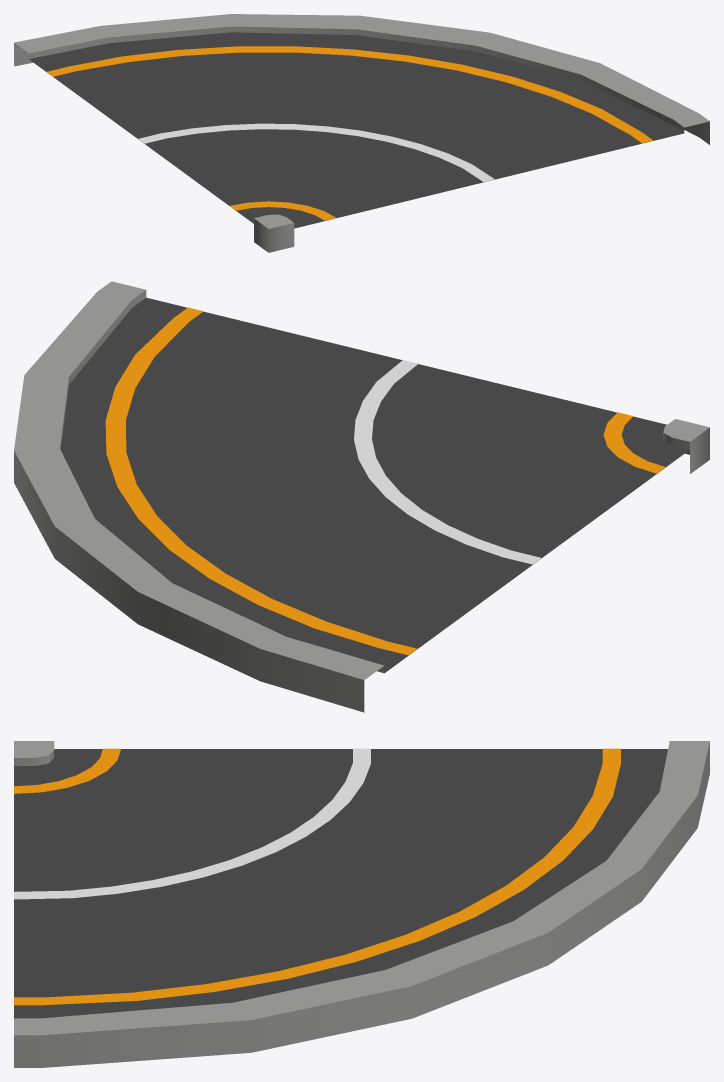
File: Road_A_8.fbx
The picture shows the model from 3 angles, top to bottom: view 1: azimuth 30°, elevation 25°; view 2: azimuth 150°, elevation 25°; view 3: azimuth 270°, elevation 25°; orthographic projection. The views are drawn at different scales.
Parts seen in each view (by area): view 1: Road_A_8; view 2: Road_A_8; view 3: Road_A_8.
Boxes of the visible parts, bbox=[...] form: Road_A_8: bbox=[14, 14, 709, 252]; Road_A_8: bbox=[14, 281, 709, 712]; Road_A_8: bbox=[14, 741, 709, 1067].
Bounding box in the file's own units: 800 × 41.48 × 800.
